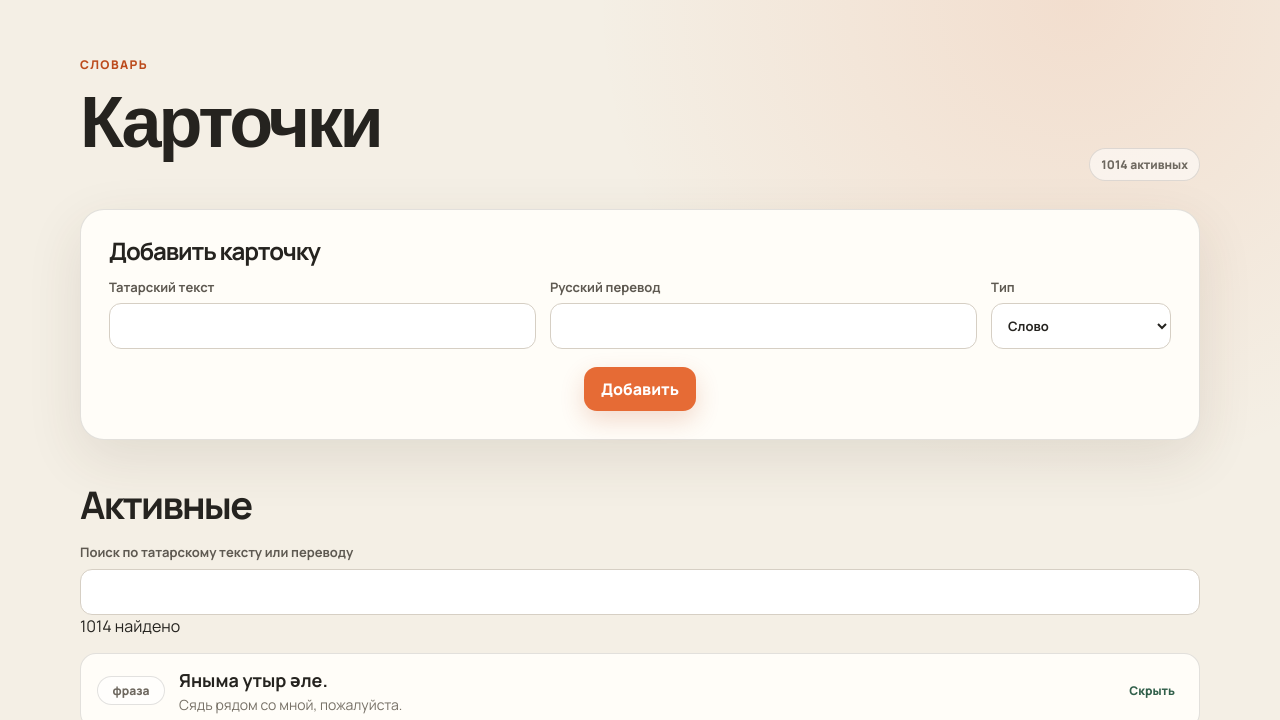
Scenario: CatalogPage › deletes a custom card after confirmation
The width and height of the screenshot is (1280, 720).
Type "сүз" into the field labelled "Татарский текст". click: (322, 326)
box: [109,303,536,349]
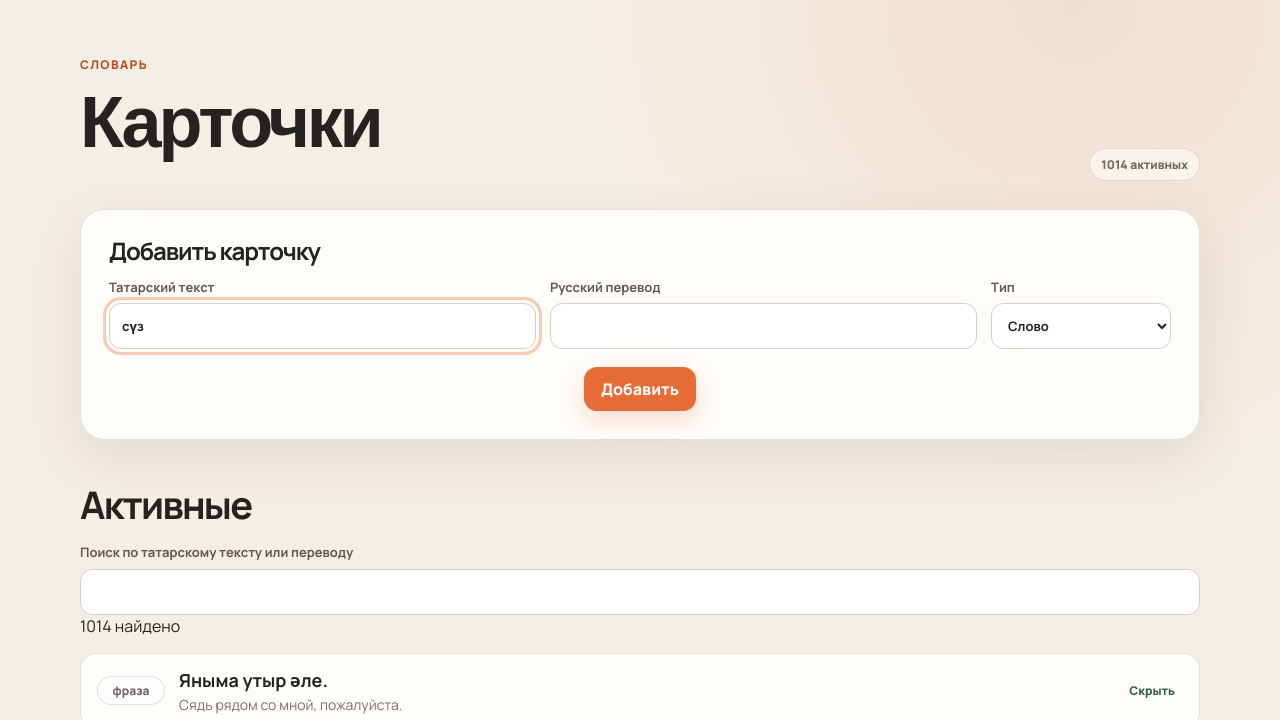
Type "слово" into the field labelled "Русский перевод". click: (764, 326)
box: [550,303,977,349]
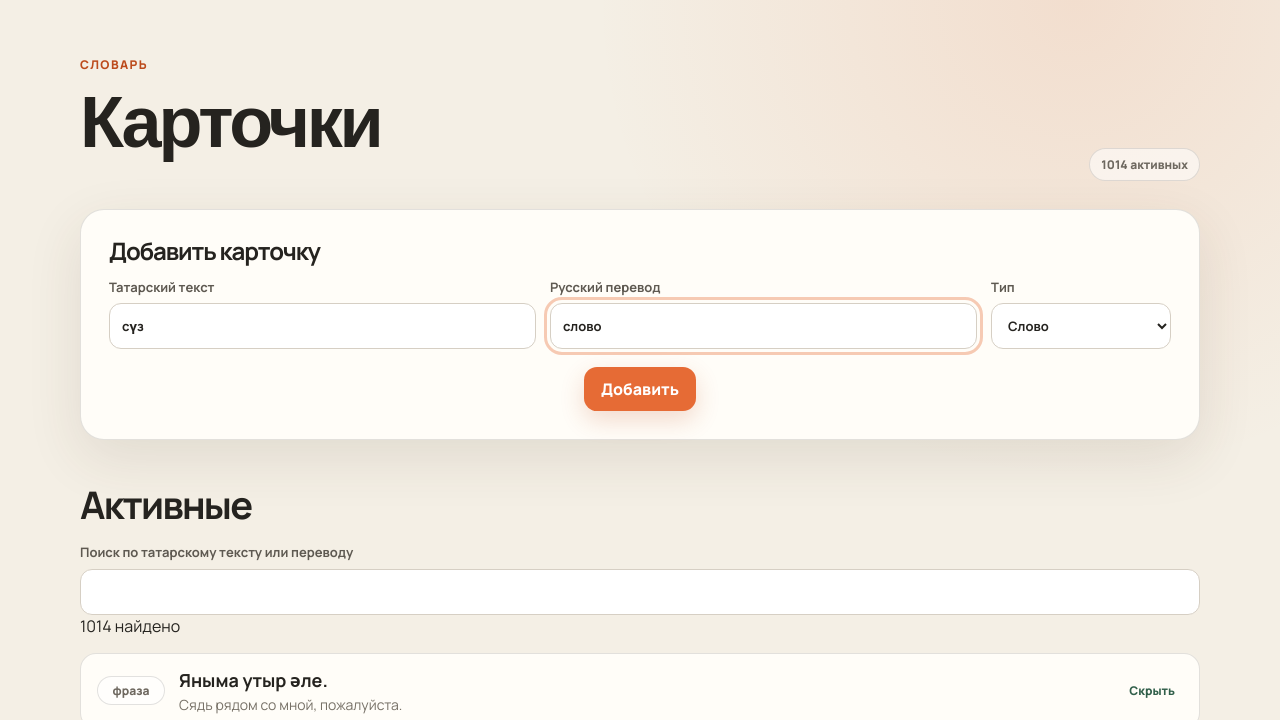
Click the button "Добавить". click: (640, 389)
box: [584,367,696,411]
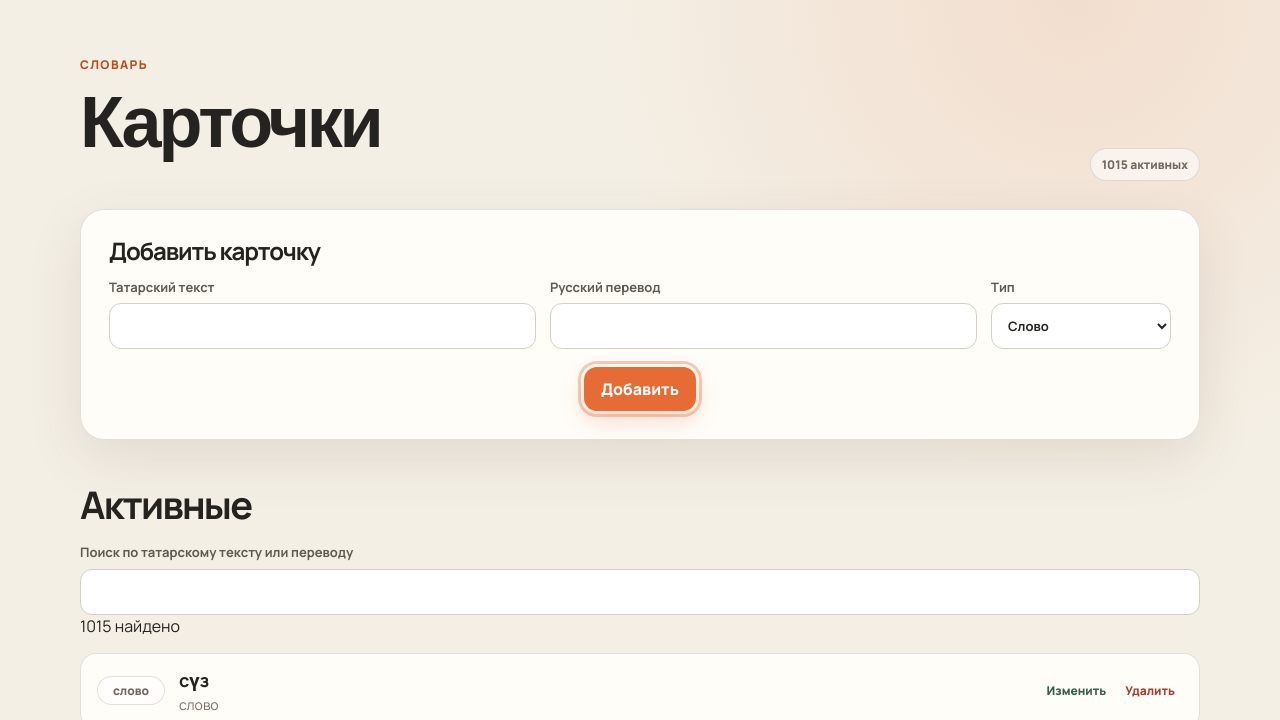
Click the button "Удалить". click: (1150, 691)
box: [1117,669,1183,713]
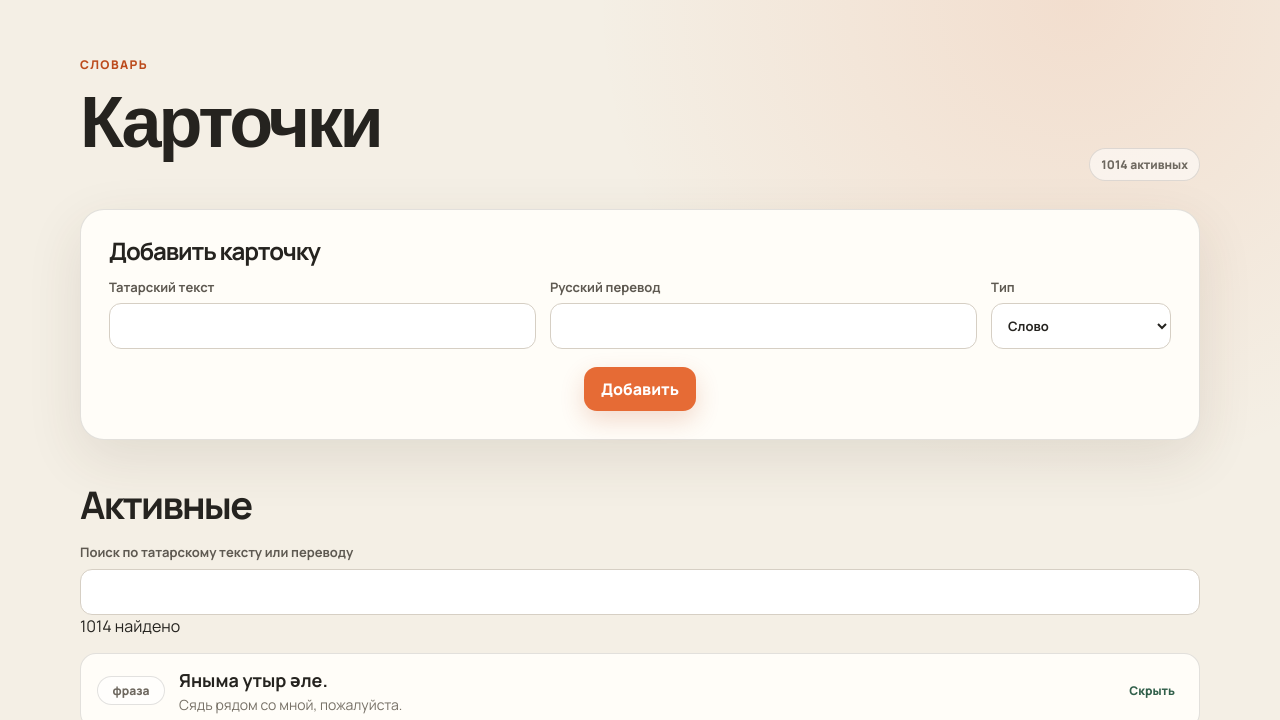
Now the text "сүз" is gone
